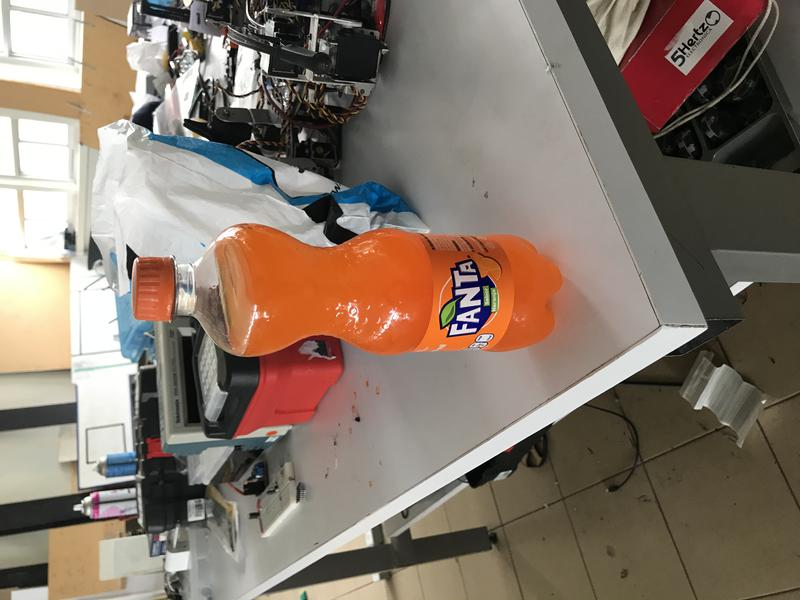fanta: (132, 224, 565, 357)
